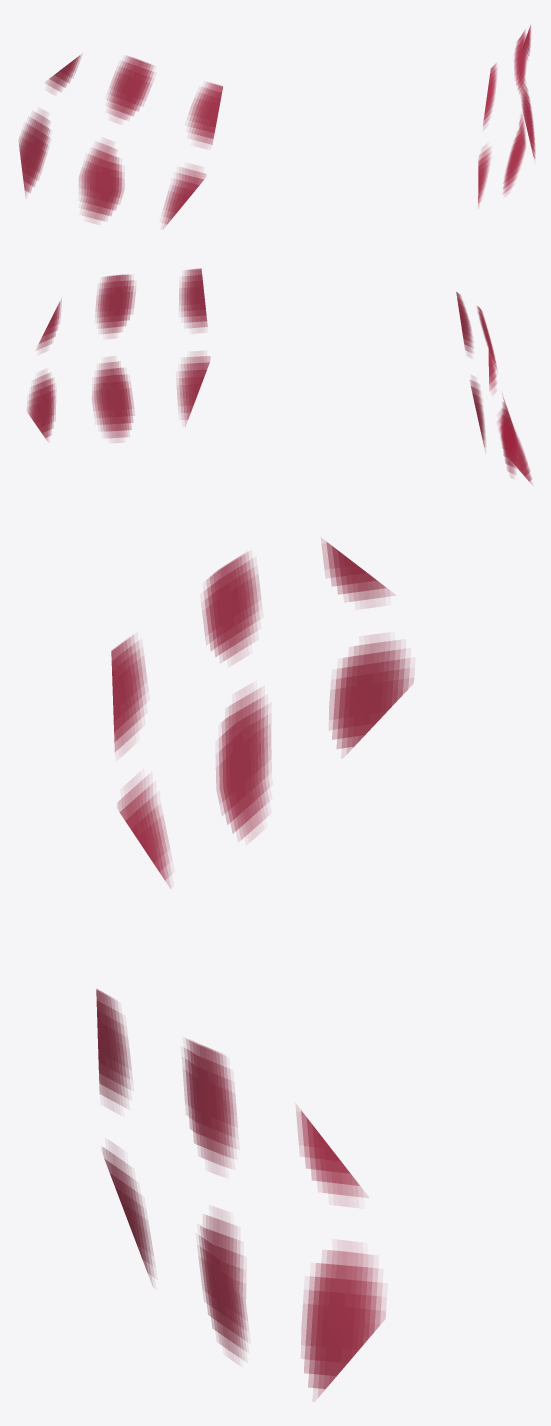
The picture shows the model from 3 angles, top to bottom: view 1: azimuth 30°, elevation 25°; view 2: azimuth 150°, elevation 25°; view 3: azimuth 270°, elevation 25°; orthographic projection. The views are drawn at different scales.
Visible parts, largest first — view 1: ef_512; view 2: ef_512; view 3: ef_512.
Part boxes in pixels (x1,y1,x2,y2): ef_512: [18, 25, 535, 229]; ef_512: [27, 268, 532, 484]; ef_512: [96, 538, 413, 1397].
Size of the model in its own units: 0.7184 by 0.3213 by 0.223.
1 material, 1 textured.
